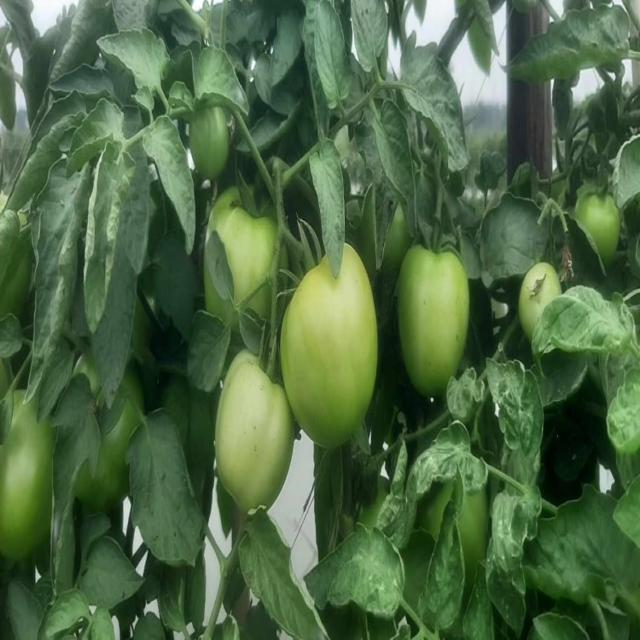tomato: (281, 253, 382, 446), (214, 350, 291, 515), (401, 239, 471, 394), (1, 391, 54, 569), (217, 182, 276, 286), (576, 182, 620, 261), (514, 258, 564, 325), (192, 105, 232, 172), (462, 489, 496, 566)
